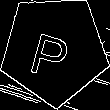P_N: (31, 20, 78, 79)
